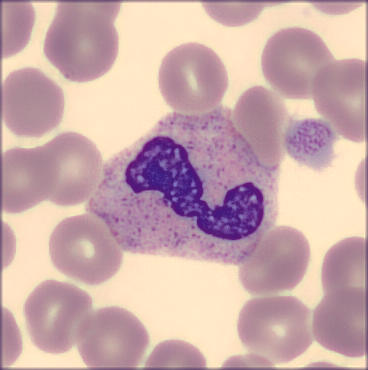WBC: (89, 107, 278, 272)
